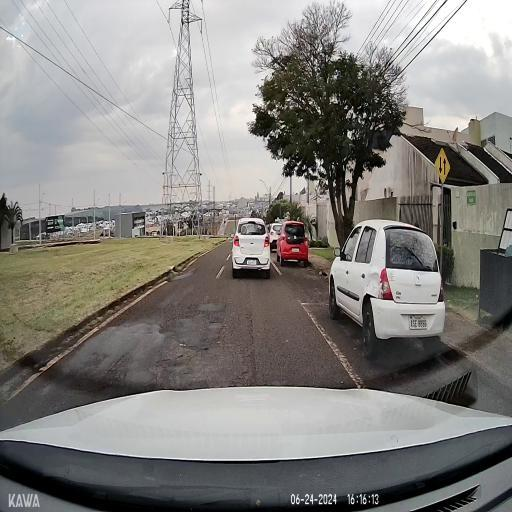A-25: (434, 150, 450, 184)
